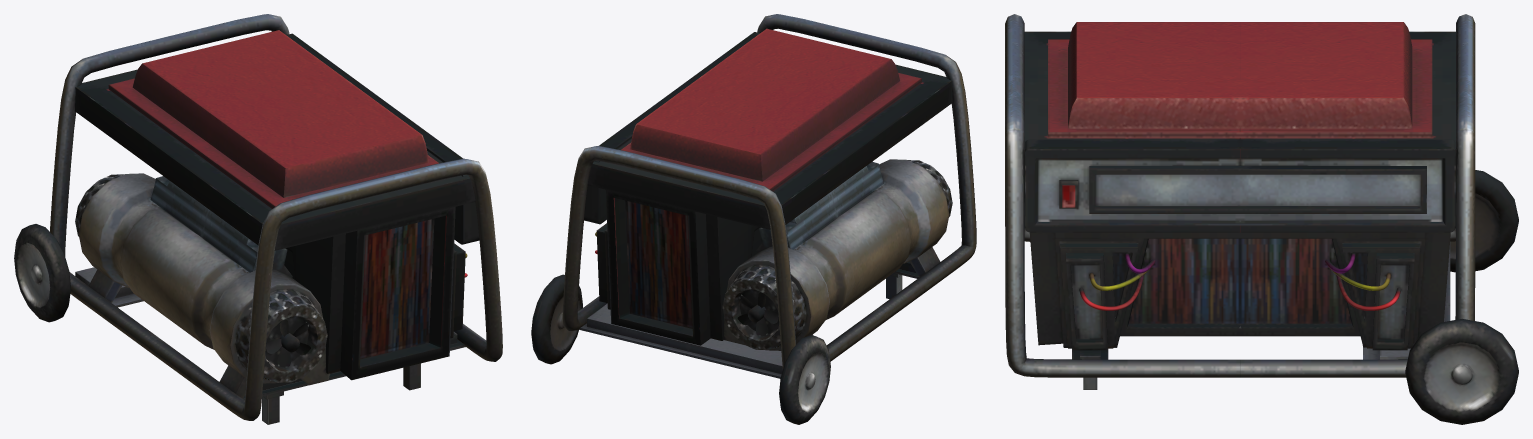
Rendered from generator.glb.
3 views of the same model, side by side, from view 1: azimuth 30°, elevation 25°; view 2: azimuth 150°, elevation 25°; view 3: azimuth 270°, elevation 25° (orthographic). The views are drawn at different scales.
Visible parts, largest first — view 1: Cube0011, Cylinder0011, Cube0031, Nurbspath1, Cylinder1, Cube0021, Cube1, Cylinder0021; view 2: Cube0011, Cylinder0011, Cube0031, Nurbspath1, Cylinder1, Cube1, Cube0021, Cylinder0021; view 3: Cube0011, Cube0021, Cube0031, Cube0051, Nurbspath1, Cube0061, Cylinder1, Nurbspath0011, Cube1, Cube0041.
Part boxes in pixels (left/top/right/bottom): Cube0011: left=75, top=30, right=475, bottom=250; Cylinder0011: left=75, top=173, right=329, bottom=398; Cube0031: left=287, top=207, right=465, bottom=380; Nurbspath1: left=50, top=14, right=502, bottom=420; Cylinder1: left=14, top=224, right=70, bottom=322; Cube0021: left=286, top=33, right=479, bottom=244; Cube1: left=75, top=267, right=465, bottom=424; Cylinder0021: left=265, top=319, right=310, bottom=367; Cube0011: left=587, top=28, right=952, bottom=229; Cylinder0011: left=722, top=159, right=952, bottom=350; Cube0031: left=596, top=190, right=759, bottom=345; Nurbspath1: left=562, top=14, right=976, bottom=368; Cylinder1: left=531, top=274, right=830, bottom=424; Cube1: left=579, top=261, right=918, bottom=378; Cube0021: left=584, top=32, right=759, bottom=224; Cylinder0021: left=737, top=292, right=778, bottom=336; Cube0011: left=1024, top=22, right=1456, bottom=176; Cube0021: left=1025, top=139, right=1455, bottom=232; Cube0031: left=1029, top=232, right=1450, bottom=350; Cube0051: left=1120, top=238, right=1360, bottom=336; Nurbspath1: left=1005, top=14, right=1475, bottom=377; Cube0061: left=1089, top=166, right=1426, bottom=213; Cylinder1: left=1405, top=170, right=1518, bottom=424; Nurbspath0011: left=1079, top=253, right=1401, bottom=310; Cube1: left=1072, top=241, right=1450, bottom=389; Cube0041: left=1059, top=180, right=1078, bottom=208.
Bounding box in the file's own units: 0.0487 × 0.041 × 0.0655.
Materials: 1 (1 with a texture image).
